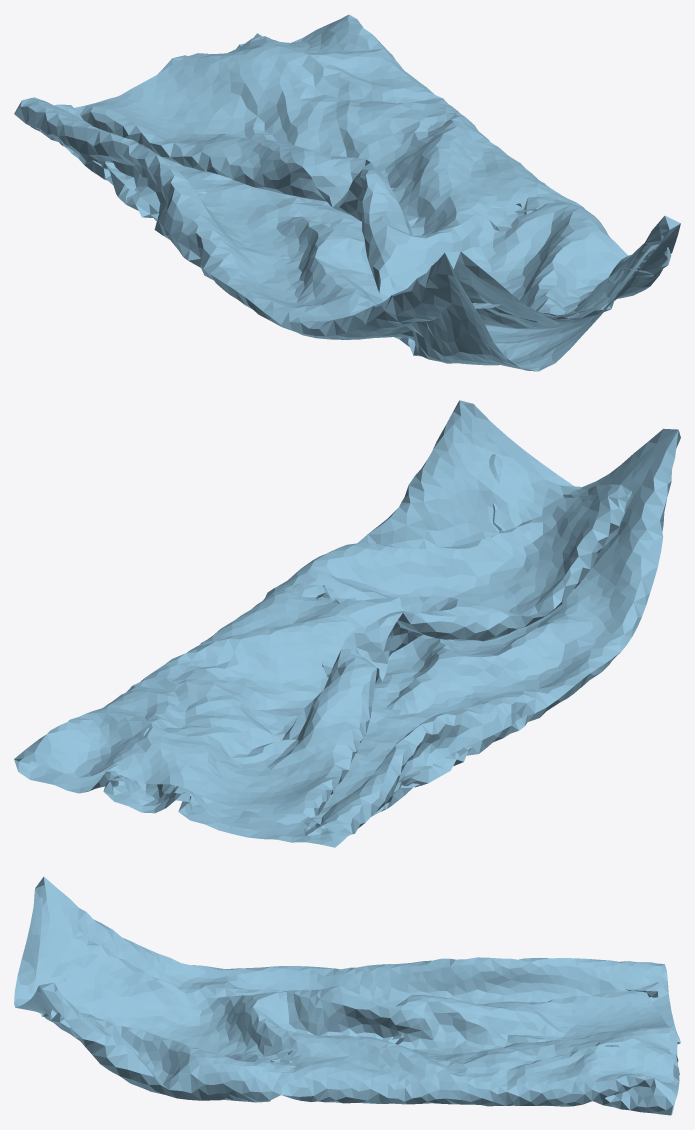
Rendered from frame_02.glb.
3 renders of one model, top to bottom at view 1: azimuth 30°, elevation 25°; view 2: azimuth 150°, elevation 25°; view 3: azimuth 270°, elevation 25°, orthographic. The views are drawn at different scales.
Visible parts, largest first — view 1: frame_02.obj; view 2: frame_02.obj; view 3: frame_02.obj.
Part boxes in pixels (box(x1,y1,x2,y2)): frame_02.obj: box(14, 14, 680, 371); frame_02.obj: box(14, 400, 680, 847); frame_02.obj: box(14, 876, 680, 1115).
Size of the model in its own units: 0.88 by 0.3713 by 1.75.
